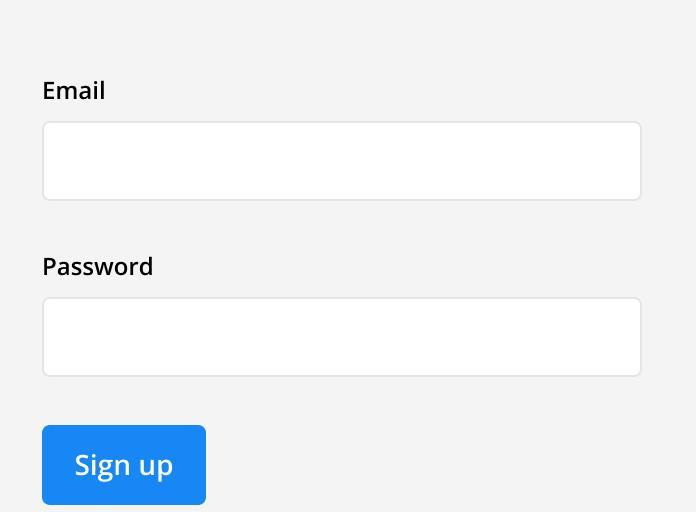button: (43, 424, 207, 507)
input: (45, 298, 643, 377), (46, 122, 643, 199)
label: (41, 255, 162, 284), (40, 75, 115, 105)
